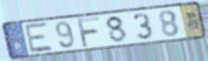3: (132, 12, 155, 41)
8: (105, 15, 130, 43), (158, 9, 182, 38)
9: (54, 21, 76, 49)
E: (24, 21, 55, 54)
F: (75, 16, 102, 49)
